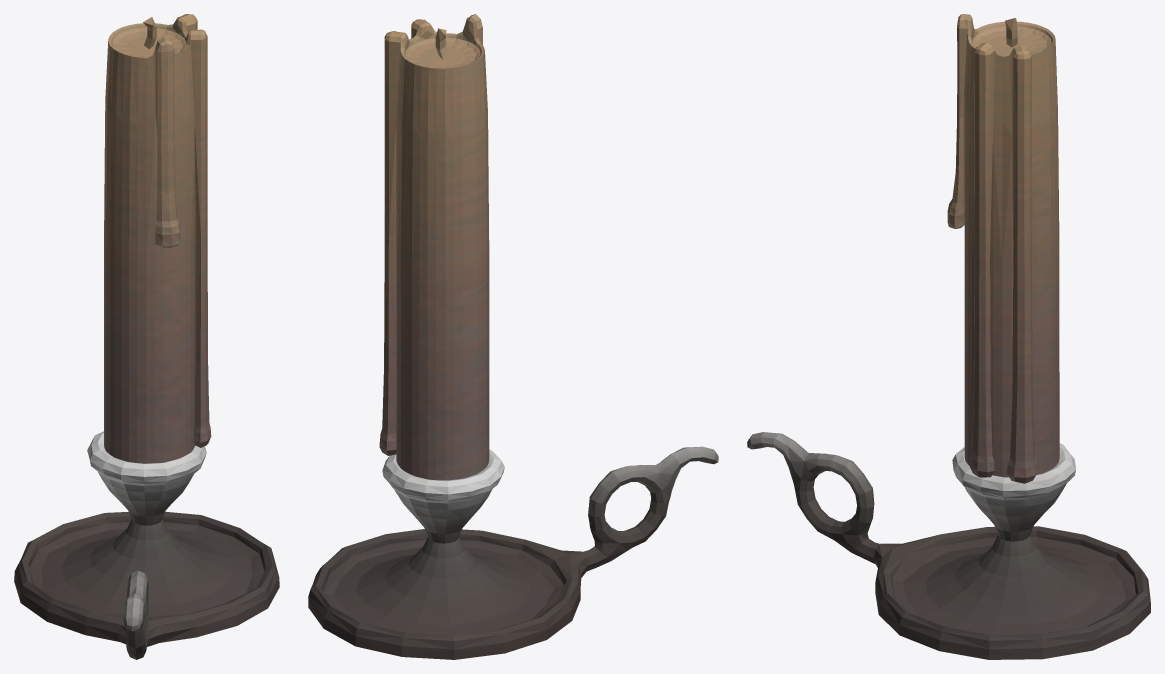
Rendered from ACandle.glb.
3 renders of one model, left to right at view 1: azimuth 30°, elevation 25°; view 2: azimuth 150°, elevation 25°; view 3: azimuth 270°, elevation 25°, orthographic. The views are drawn at different scales.
Bounding box in the file's own units: 1.16 × 2.42 × 1.51.
Materials: 1 (1 with a texture image).
